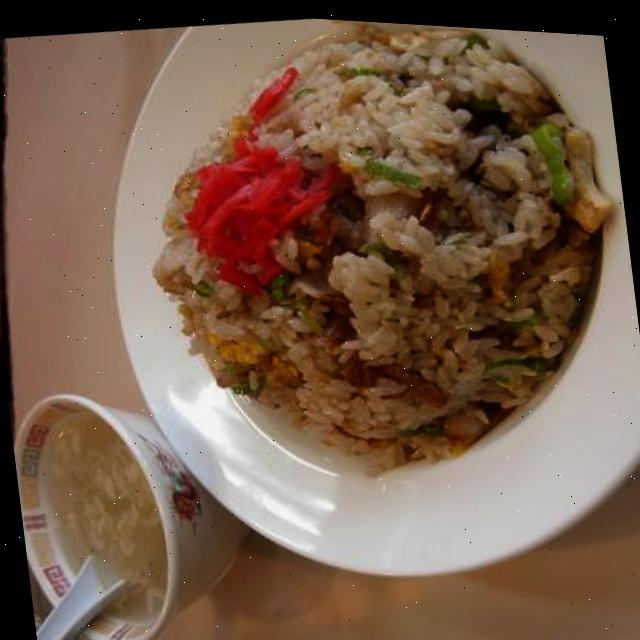米饭主食: (70, 3, 640, 627)
